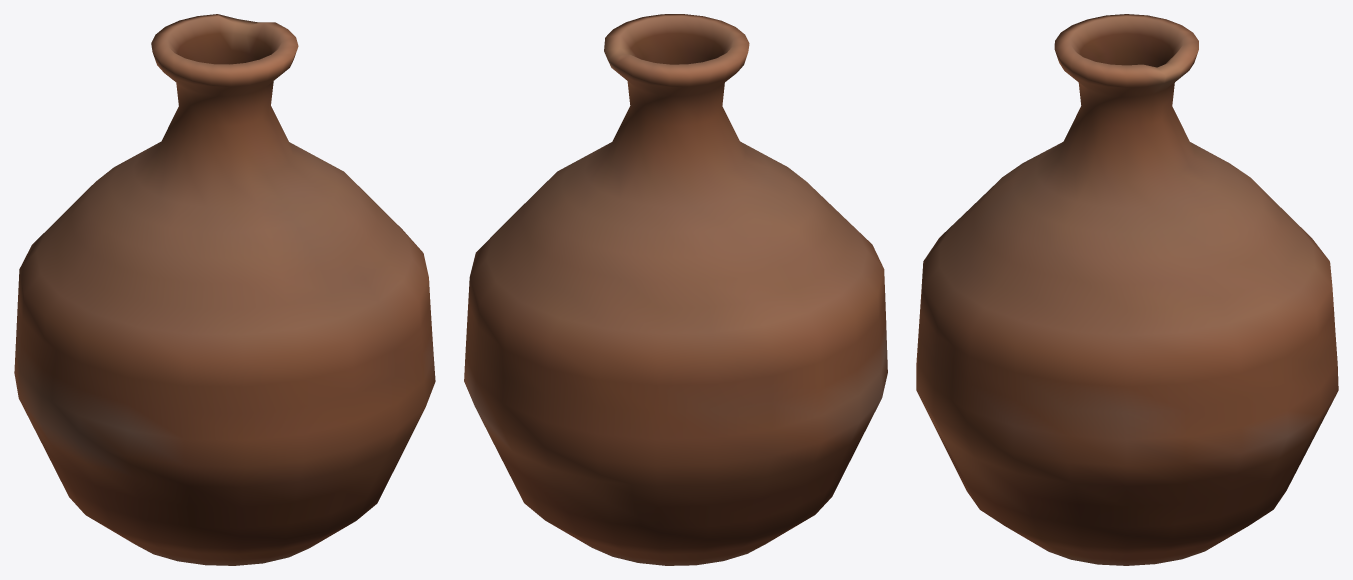
Rendered from pot_surahi_v2.glb.
3 renders of one model, left to right at view 1: azimuth 30°, elevation 25°; view 2: azimuth 150°, elevation 25°; view 3: azimuth 270°, elevation 25°, orthographic.
Visible parts, largest first — view 1: hb_main; view 2: hb_main; view 3: hb_main.
Part boxes in pixels (x1,y1,x2,y2): hb_main: [14, 14, 435, 565]; hb_main: [464, 14, 887, 565]; hb_main: [916, 14, 1338, 565].
Size of the model in its own units: 0.3678 by 0.464 by 0.3687.
